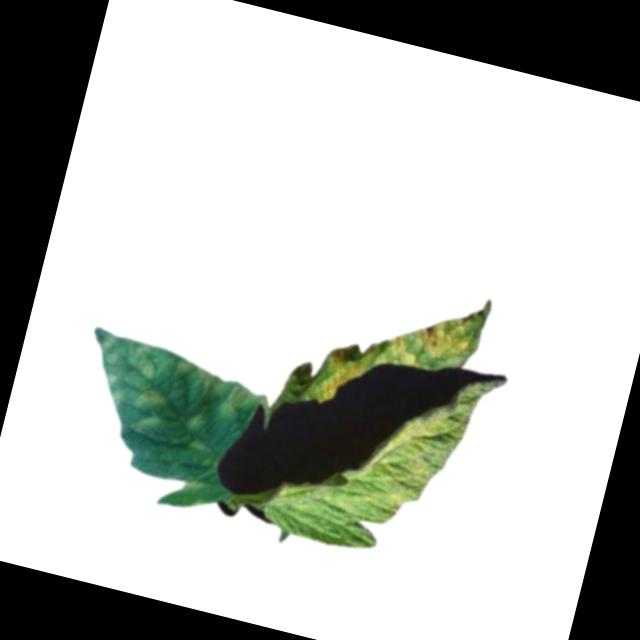Leaf_Mold: (73, 328, 257, 459), (310, 328, 382, 411), (411, 299, 481, 367), (387, 329, 418, 366)
